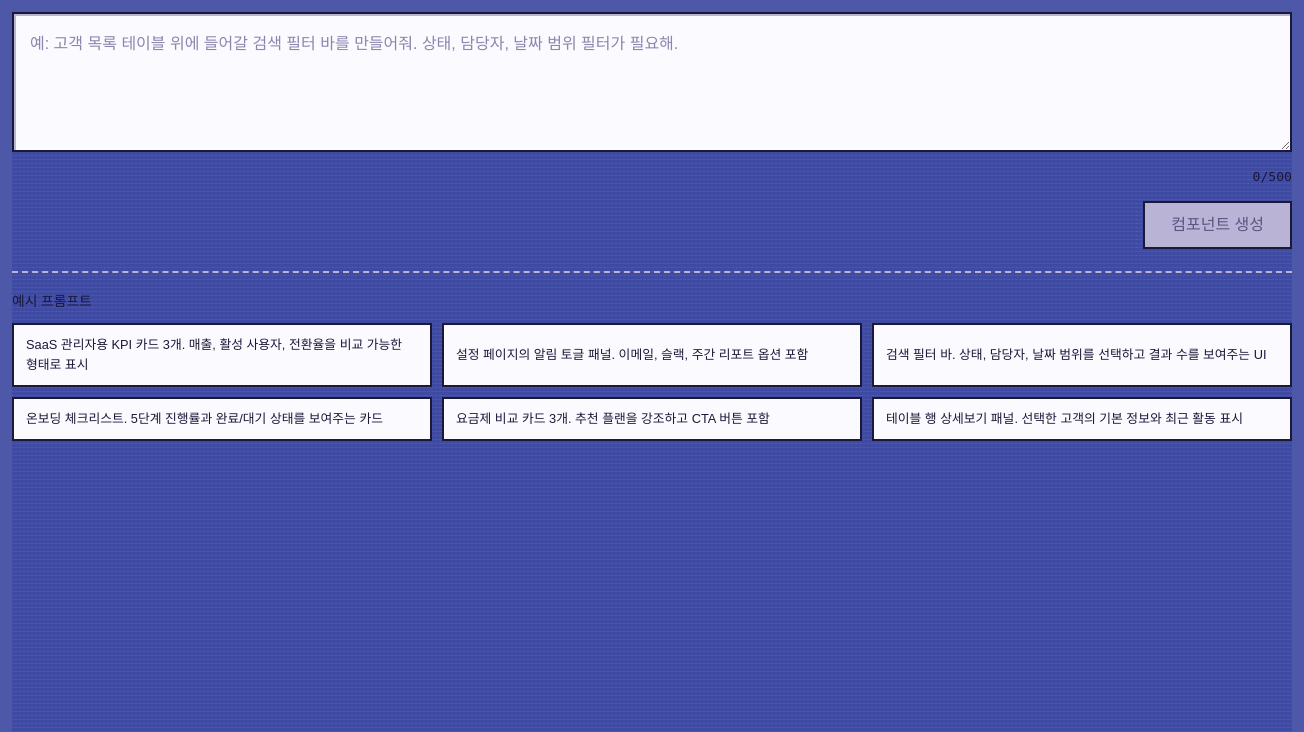
Test case: PromptInput › 입력 중인 글자 수를 "현재/500"으로 보여준다
In the text box: {"x": 652, "y": 82} [12, 12, 1292, 152], type "abc"
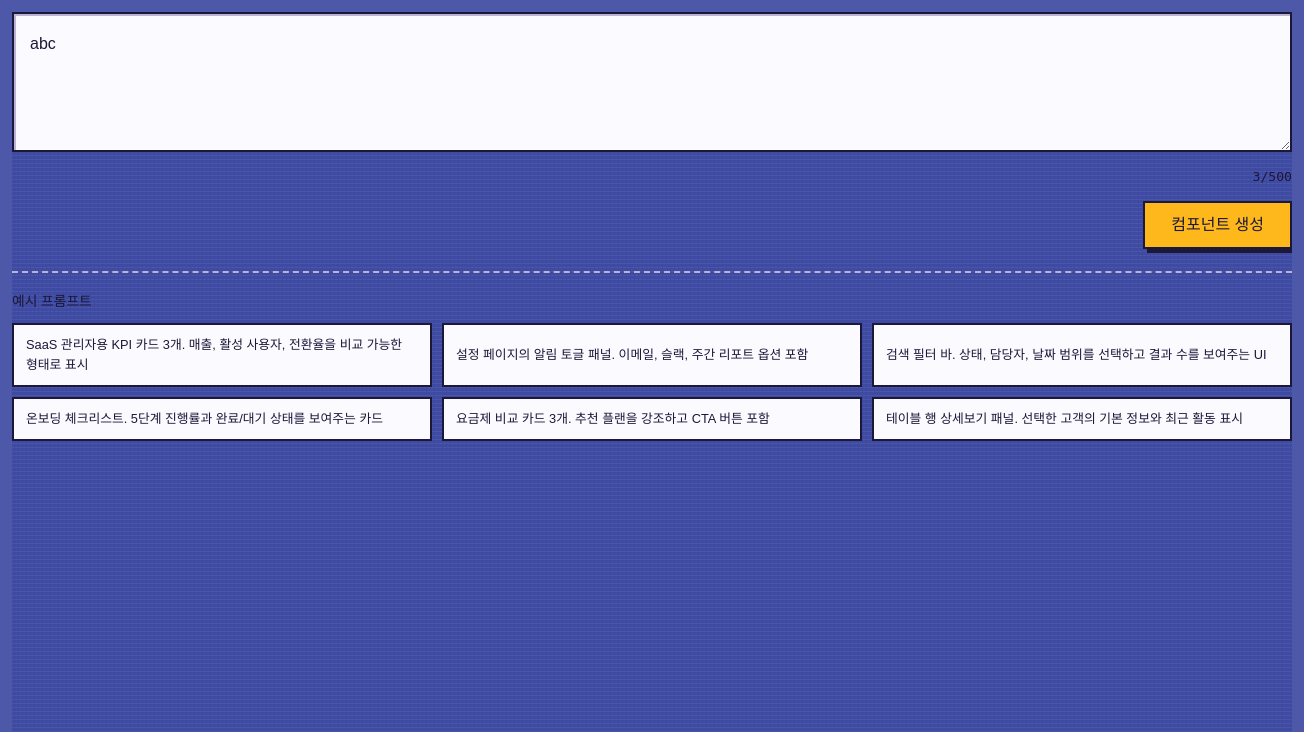
Check: the text "3/500" is shown, box [1252, 166, 1292, 187]
